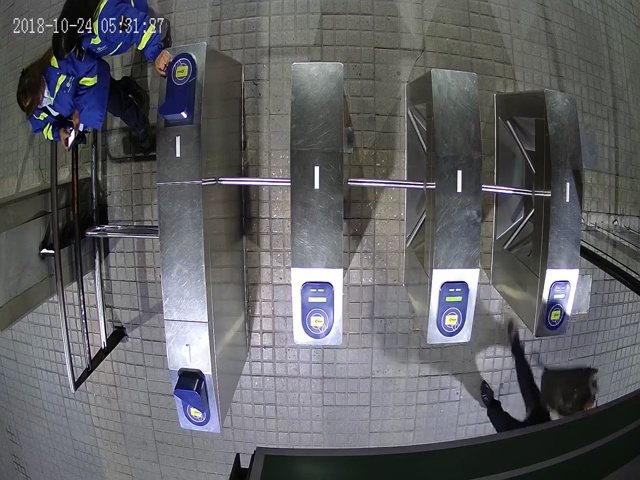Chaleco_azul: (16, 45, 149, 141), (51, 1, 172, 75)
